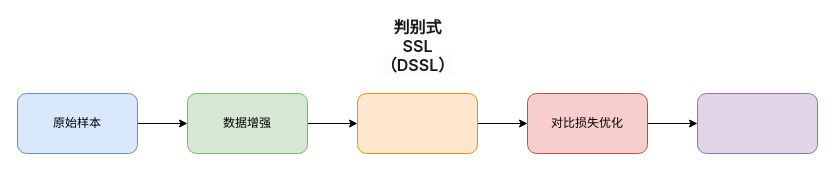
This 835x171 diagram has some shape labels left out. Each missing label, with the centre of its shape:
"不变性表征" belongs at pixel 757 123.
"构建正样本对" belongs at pixel 417 123.
